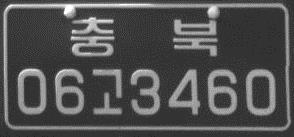0: (244, 66, 277, 117), (17, 66, 47, 116)
3: (129, 66, 160, 117)
4: (166, 67, 201, 116)
6: (206, 67, 238, 117), (54, 67, 85, 115)
고: (91, 67, 124, 117)
충북_D: (69, 15, 219, 58)
